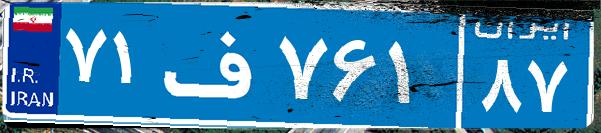1: (385, 28, 445, 110), (110, 28, 158, 105)
6: (330, 28, 385, 110)
7: (273, 28, 330, 110), (57, 26, 110, 107), (525, 38, 570, 115)
8: (475, 38, 525, 113)
ف: (158, 15, 273, 115)
